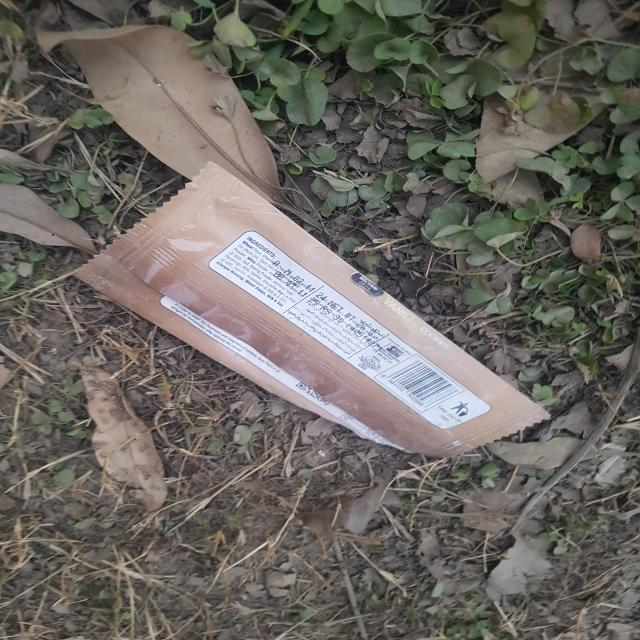electronic: (73, 160, 552, 459)
paper: (42, 22, 284, 179), (70, 360, 169, 515)
